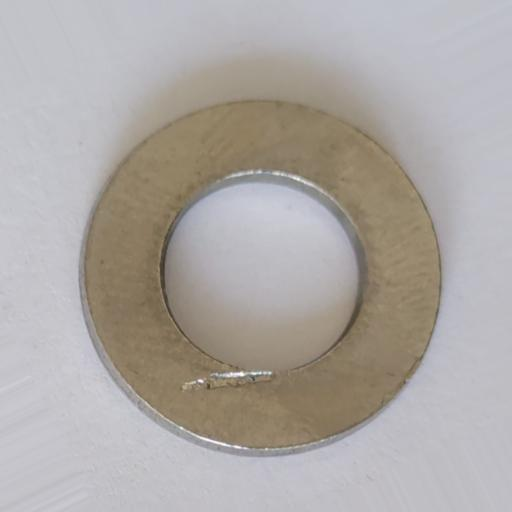scratch: (179, 367, 277, 392)
